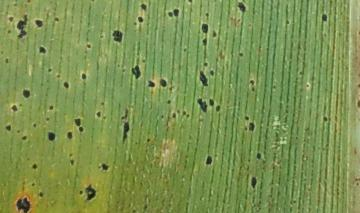tarspot: (15, 12, 30, 41), (15, 193, 33, 213), (109, 27, 126, 47), (83, 183, 98, 202), (120, 120, 130, 147), (129, 64, 143, 82), (195, 96, 209, 114), (197, 70, 211, 88), (156, 76, 170, 91), (71, 114, 85, 128), (235, 1, 249, 15), (32, 17, 47, 30), (97, 161, 112, 173), (37, 44, 50, 57), (199, 20, 210, 35), (248, 174, 258, 190), (119, 108, 131, 121), (146, 77, 157, 91), (64, 130, 76, 142), (46, 130, 57, 143), (21, 87, 32, 100), (203, 153, 214, 166), (320, 11, 331, 24), (137, 2, 152, 11), (79, 70, 90, 82), (170, 7, 182, 18), (253, 149, 264, 161), (8, 103, 21, 113), (248, 120, 256, 136), (134, 15, 147, 24), (61, 80, 72, 90), (321, 114, 332, 124), (166, 9, 174, 21), (30, 163, 40, 172), (77, 188, 87, 197), (68, 157, 77, 167), (30, 121, 40, 130), (46, 103, 56, 112), (3, 57, 13, 66), (7, 15, 16, 25), (201, 37, 210, 47), (4, 123, 13, 132), (169, 111, 178, 120), (94, 109, 102, 119), (51, 15, 61, 23), (145, 137, 155, 145), (210, 30, 220, 38), (214, 104, 222, 113), (207, 97, 215, 106), (248, 86, 257, 94), (20, 135, 30, 142), (84, 43, 94, 50), (202, 11, 212, 18), (236, 51, 246, 58), (304, 81, 312, 89), (46, 66, 53, 75), (243, 114, 252, 121), (248, 78, 257, 85), (208, 70, 218, 76), (37, 191, 45, 198), (44, 116, 51, 124), (6, 28, 14, 35), (78, 126, 85, 134), (202, 60, 209, 68), (29, 182, 38, 188), (24, 1, 34, 6), (67, 151, 74, 158), (166, 98, 173, 105), (130, 207, 138, 213), (98, 101, 106, 107), (356, 98, 360, 109), (285, 19, 292, 25), (15, 129, 21, 135), (133, 21, 139, 27), (181, 110, 187, 116), (185, 112, 190, 119), (184, 1, 195, 4), (357, 82, 360, 88), (19, 103, 23, 107)
